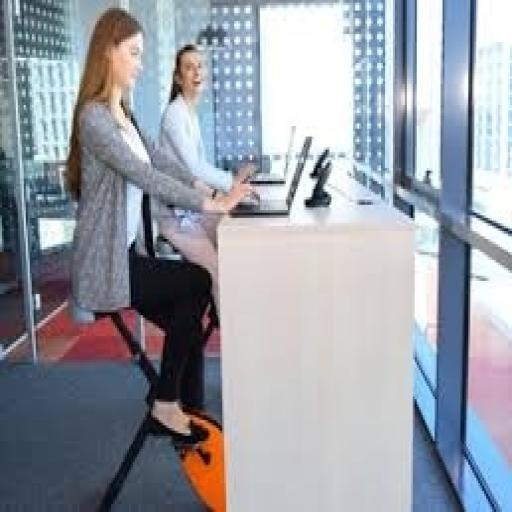sitting: (62, 6, 258, 446)
